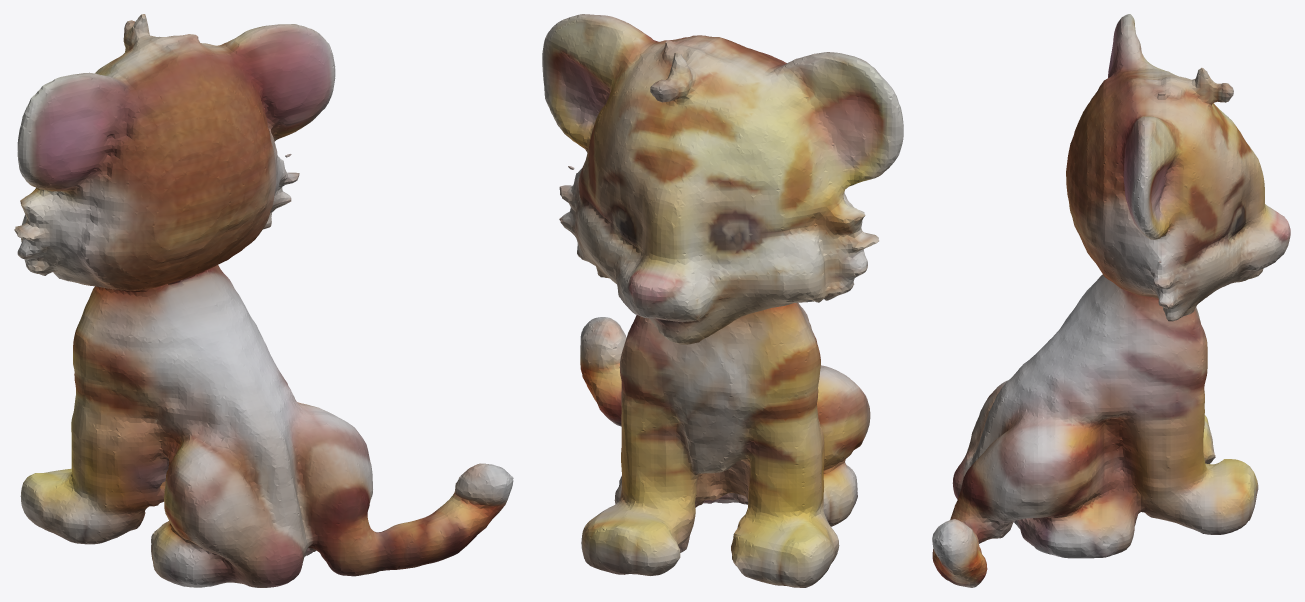
The model's file is Lion.glb.
3 renders of one model, left to right at view 1: azimuth 30°, elevation 25°; view 2: azimuth 150°, elevation 25°; view 3: azimuth 270°, elevation 25°, orthographic. The views are drawn at different scales.
Visible parts, largest first — view 1: world; view 2: world; view 3: world.
Part boxes in pixels (x1,y1,x2,y2): world: (14,14,513,587); world: (542,14,903,587); world: (932,14,1290,587).
Bounding box in the file's own units: 1.59 × 1.88 × 1.38.
